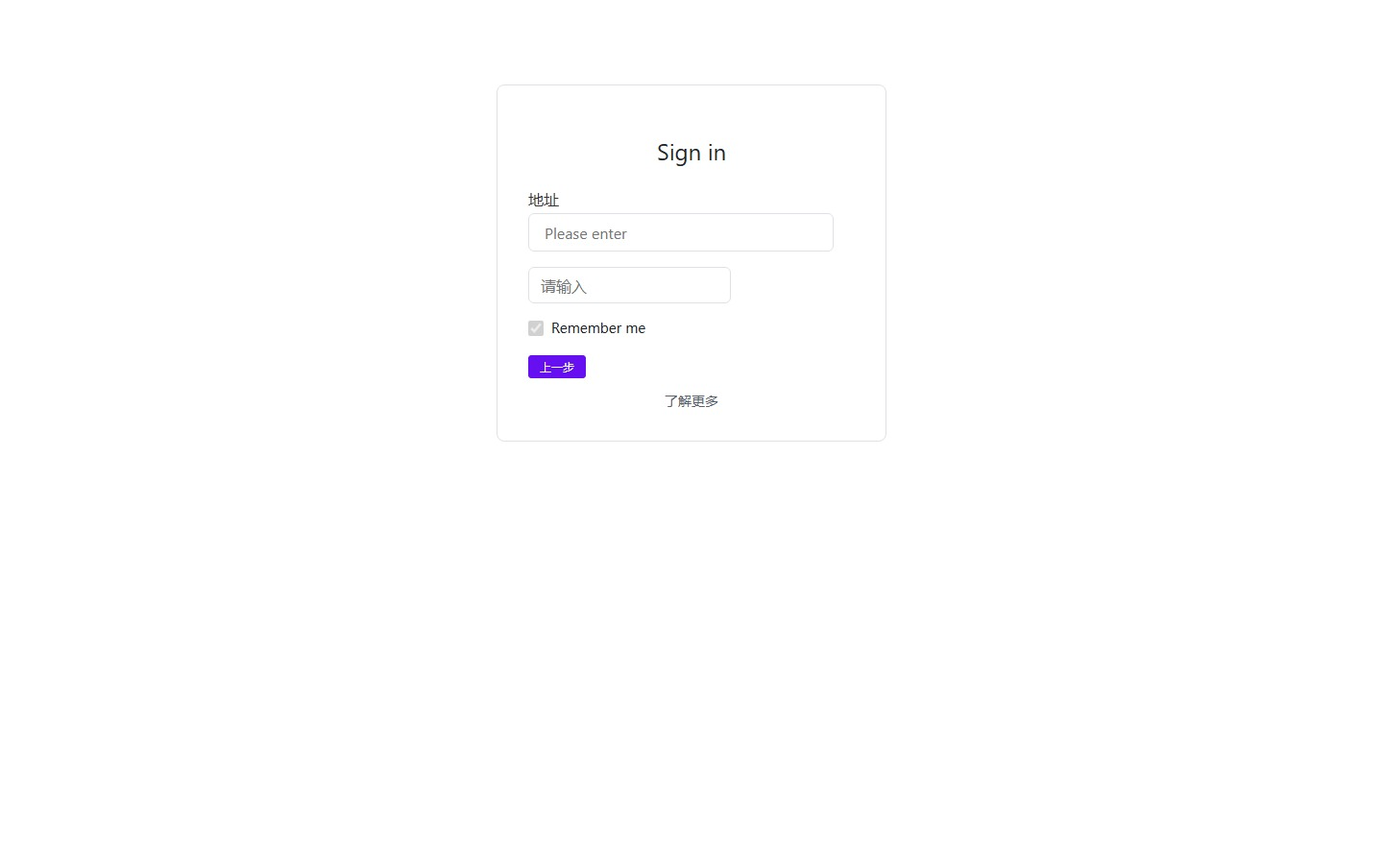button: (528, 355, 586, 378)
checkbox: (528, 320, 544, 336)
icon: (551, 319, 646, 337)
input: (528, 213, 834, 252), (528, 267, 731, 304)
link: (665, 391, 718, 410)
radio: (528, 319, 646, 337)
